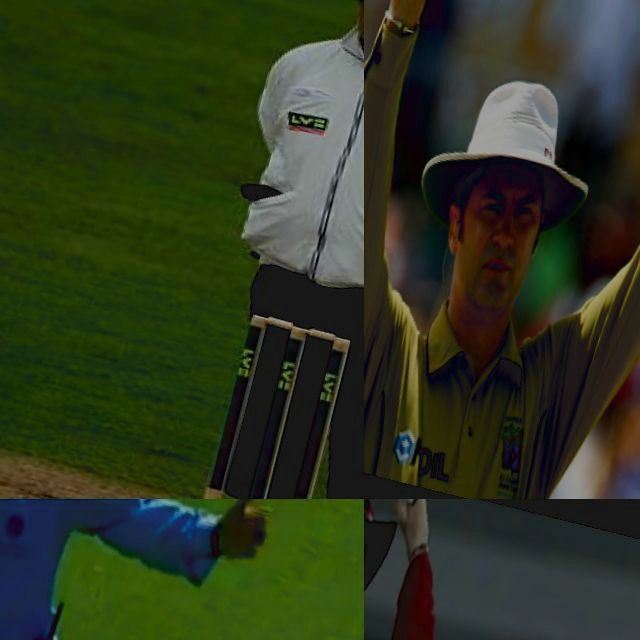No_Action: (129, 0, 364, 499)
No_Ball: (0, 499, 332, 640)
Six: (364, 0, 640, 499), (364, 499, 545, 640)
